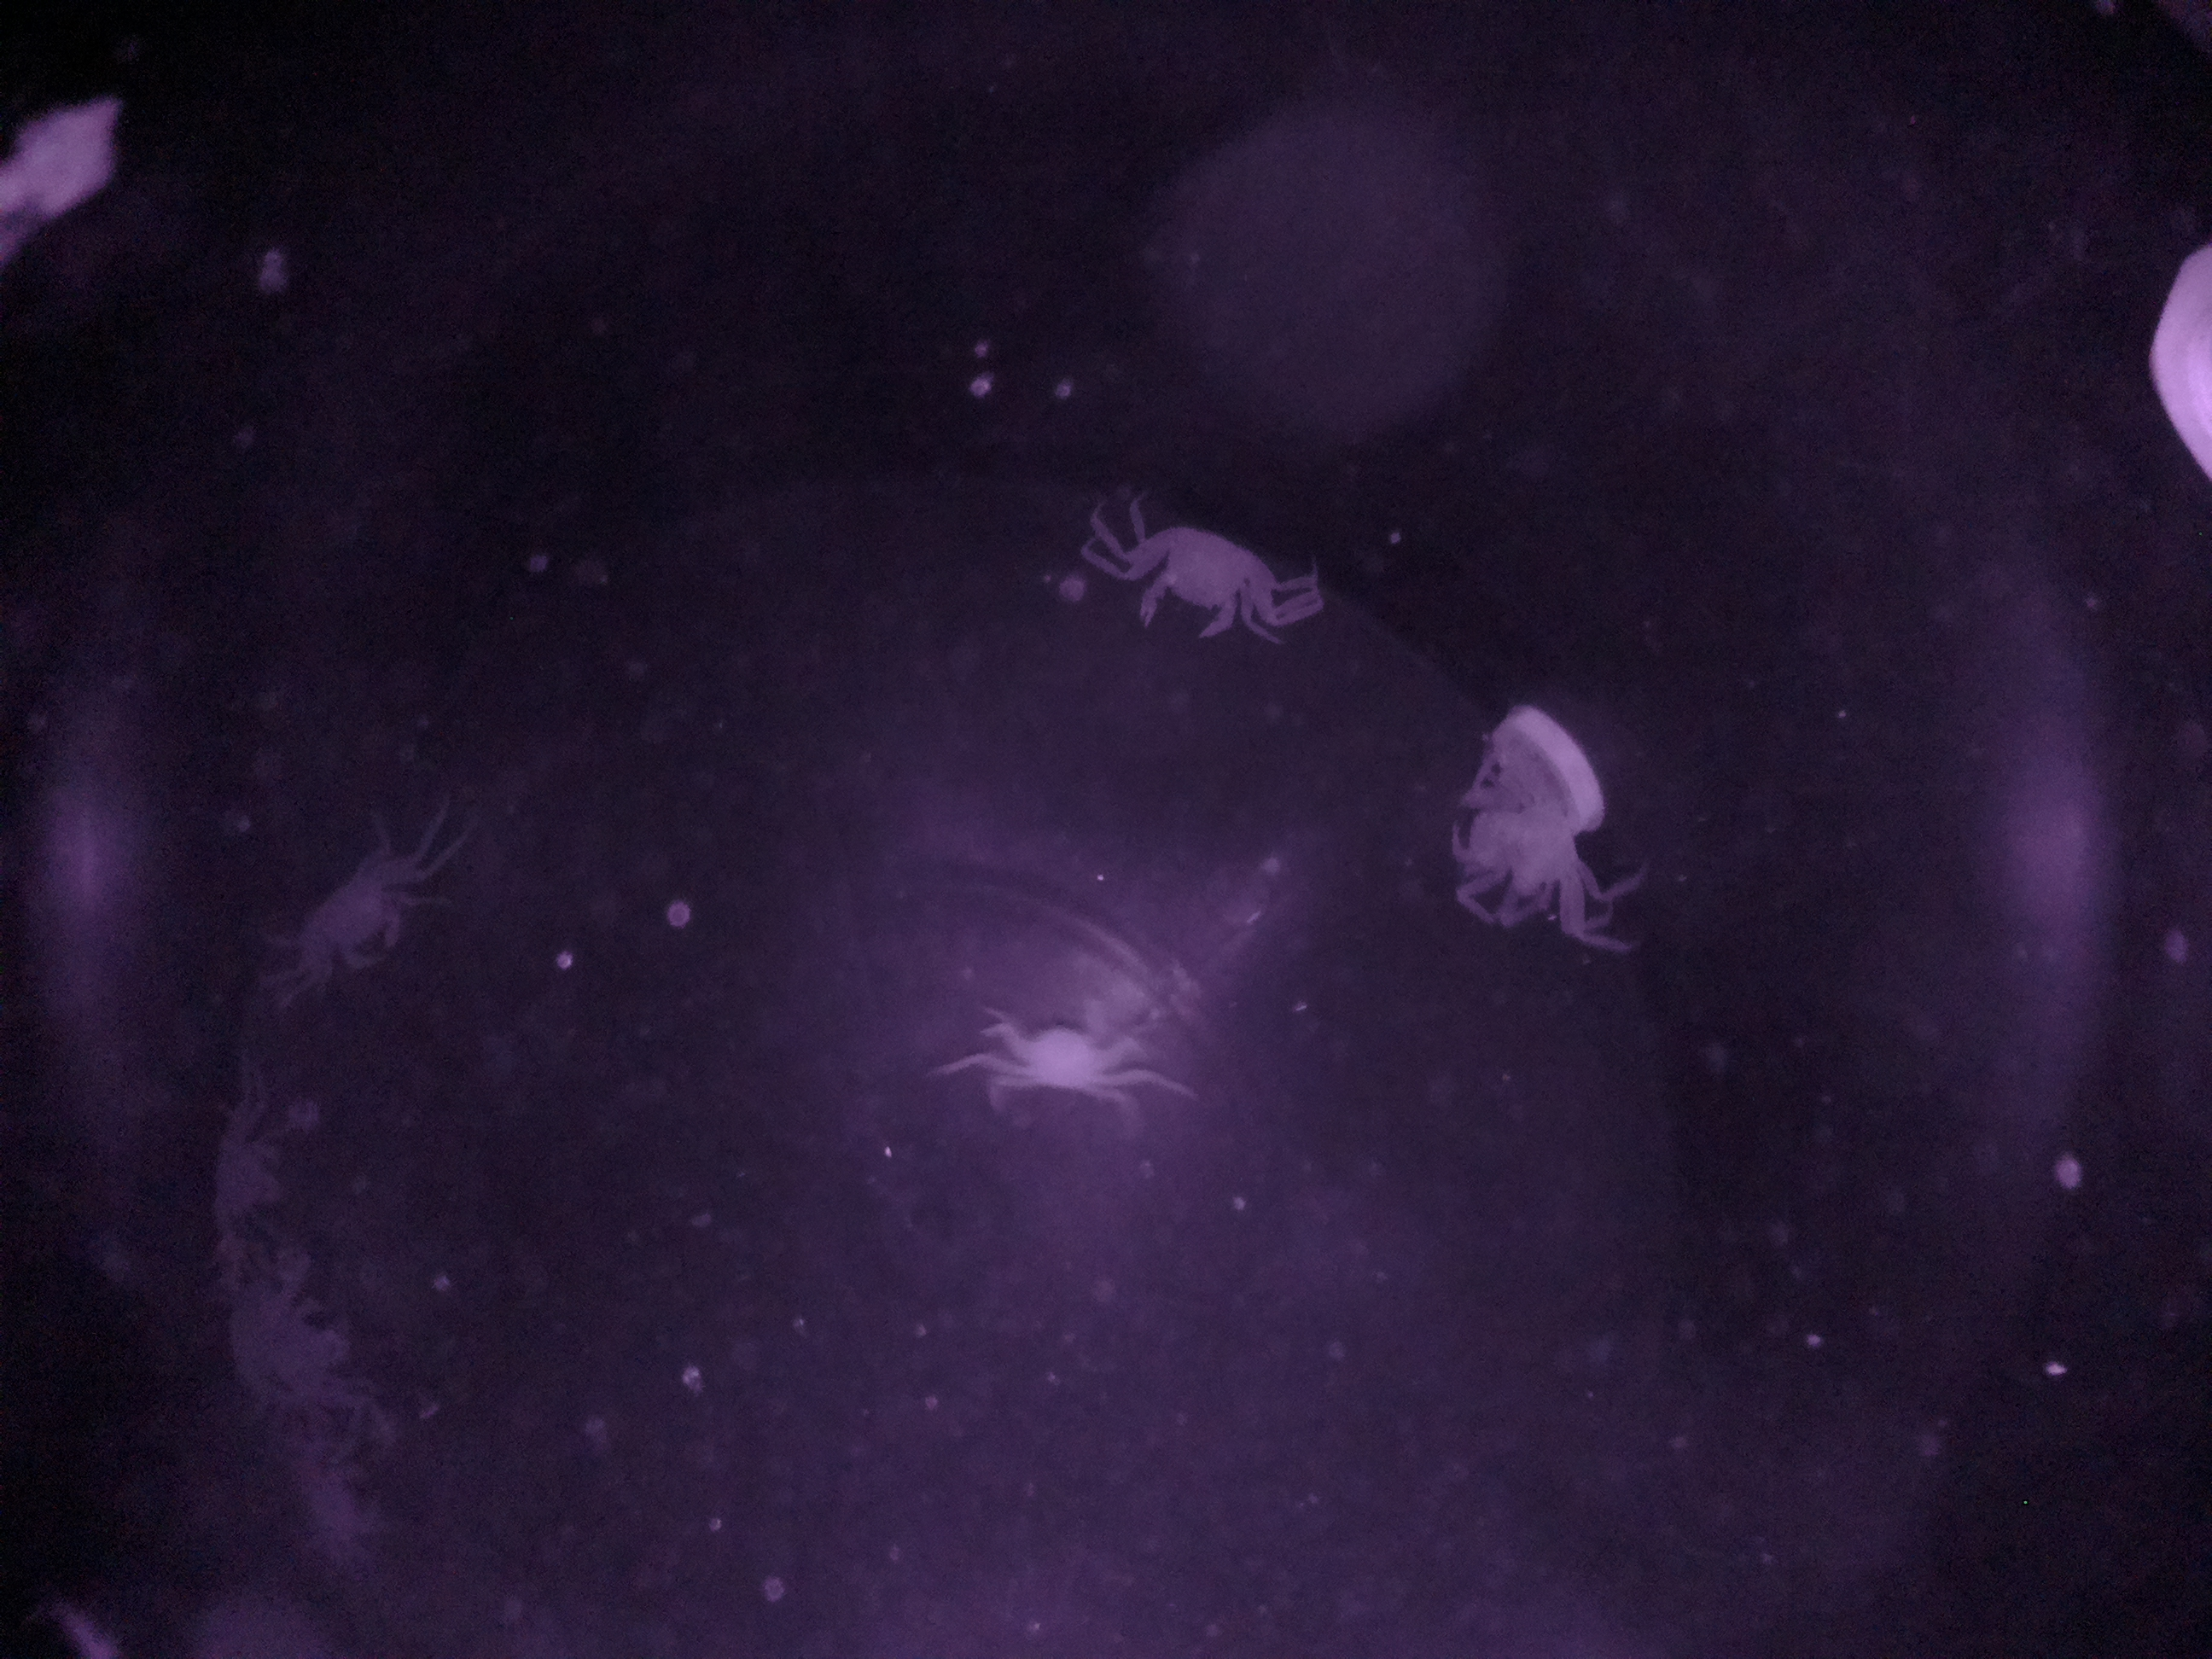Crab: (1089, 502, 1320, 655), (946, 981, 1172, 1122), (275, 821, 446, 995)
